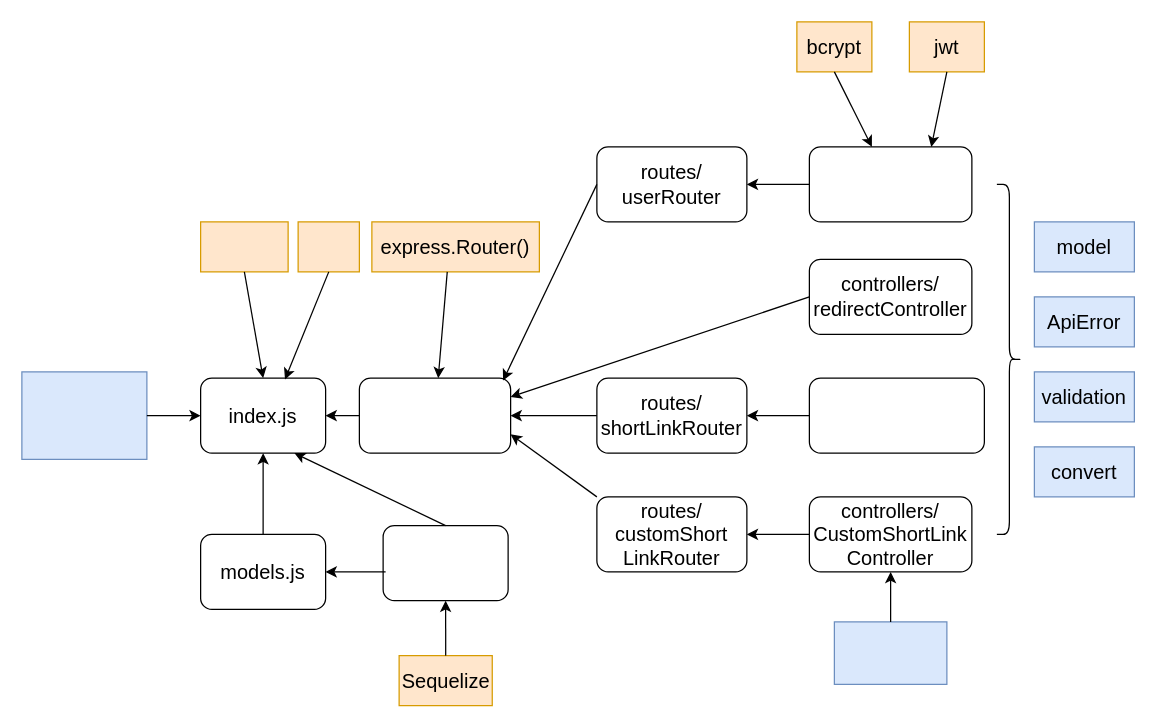
The diagram is 1156 pixels wide and 728 high, and some of its shapes have lost their labels. Here are the shapes that lost their labels. From the top down, the box of each, then its label:
(808, 146, 972, 222): controllers/ UserController
(199, 221, 288, 272): express
(297, 221, 359, 272): cors
(21, 371, 147, 459): error Handling Middleware
(358, 377, 511, 453): routes/ index
(808, 377, 984, 453): controllers/ ShortLink Controller
(382, 524, 508, 601): db.js
(833, 621, 947, 684): auth Middleware
